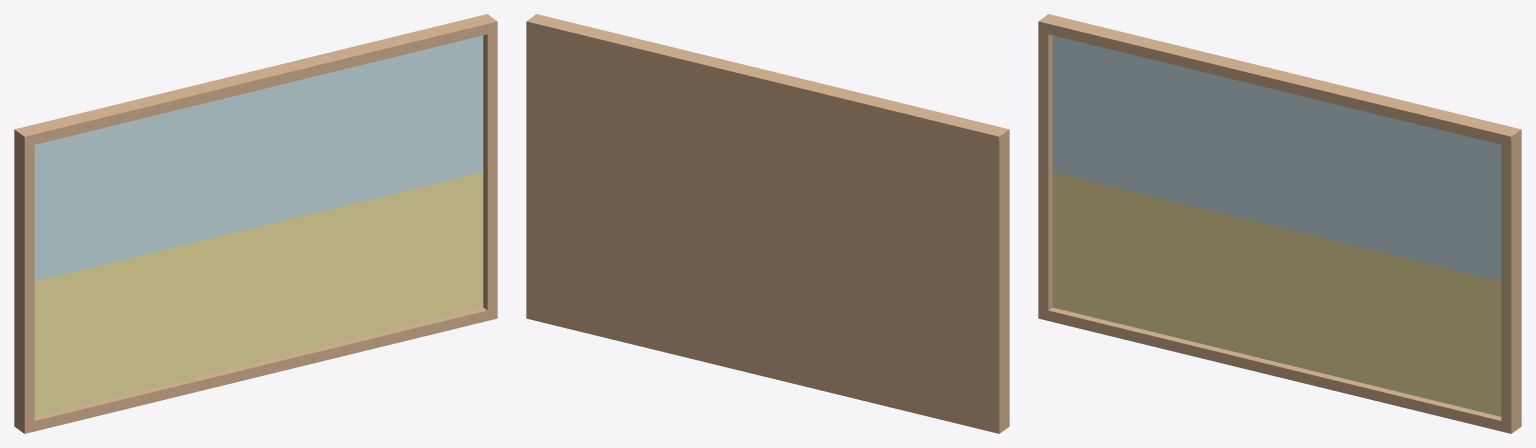
The model's file is picture7.fbx.
3 renders of one model, left to right at view 1: azimuth 30°, elevation 25°; view 2: azimuth 150°, elevation 25°; view 3: azimuth 330°, elevation 25°, orthographic.
Visible parts, largest first — view 1: Cube_21; view 2: Cube_21; view 3: Cube_21.
Part boxes in pixels (x1,y1,x2,y2): Cube_21: [14, 14, 497, 433]; Cube_21: [526, 14, 1009, 433]; Cube_21: [1038, 14, 1521, 433].
Bounding box in the file's own units: 42.49 × 25.51 × 1.58.
